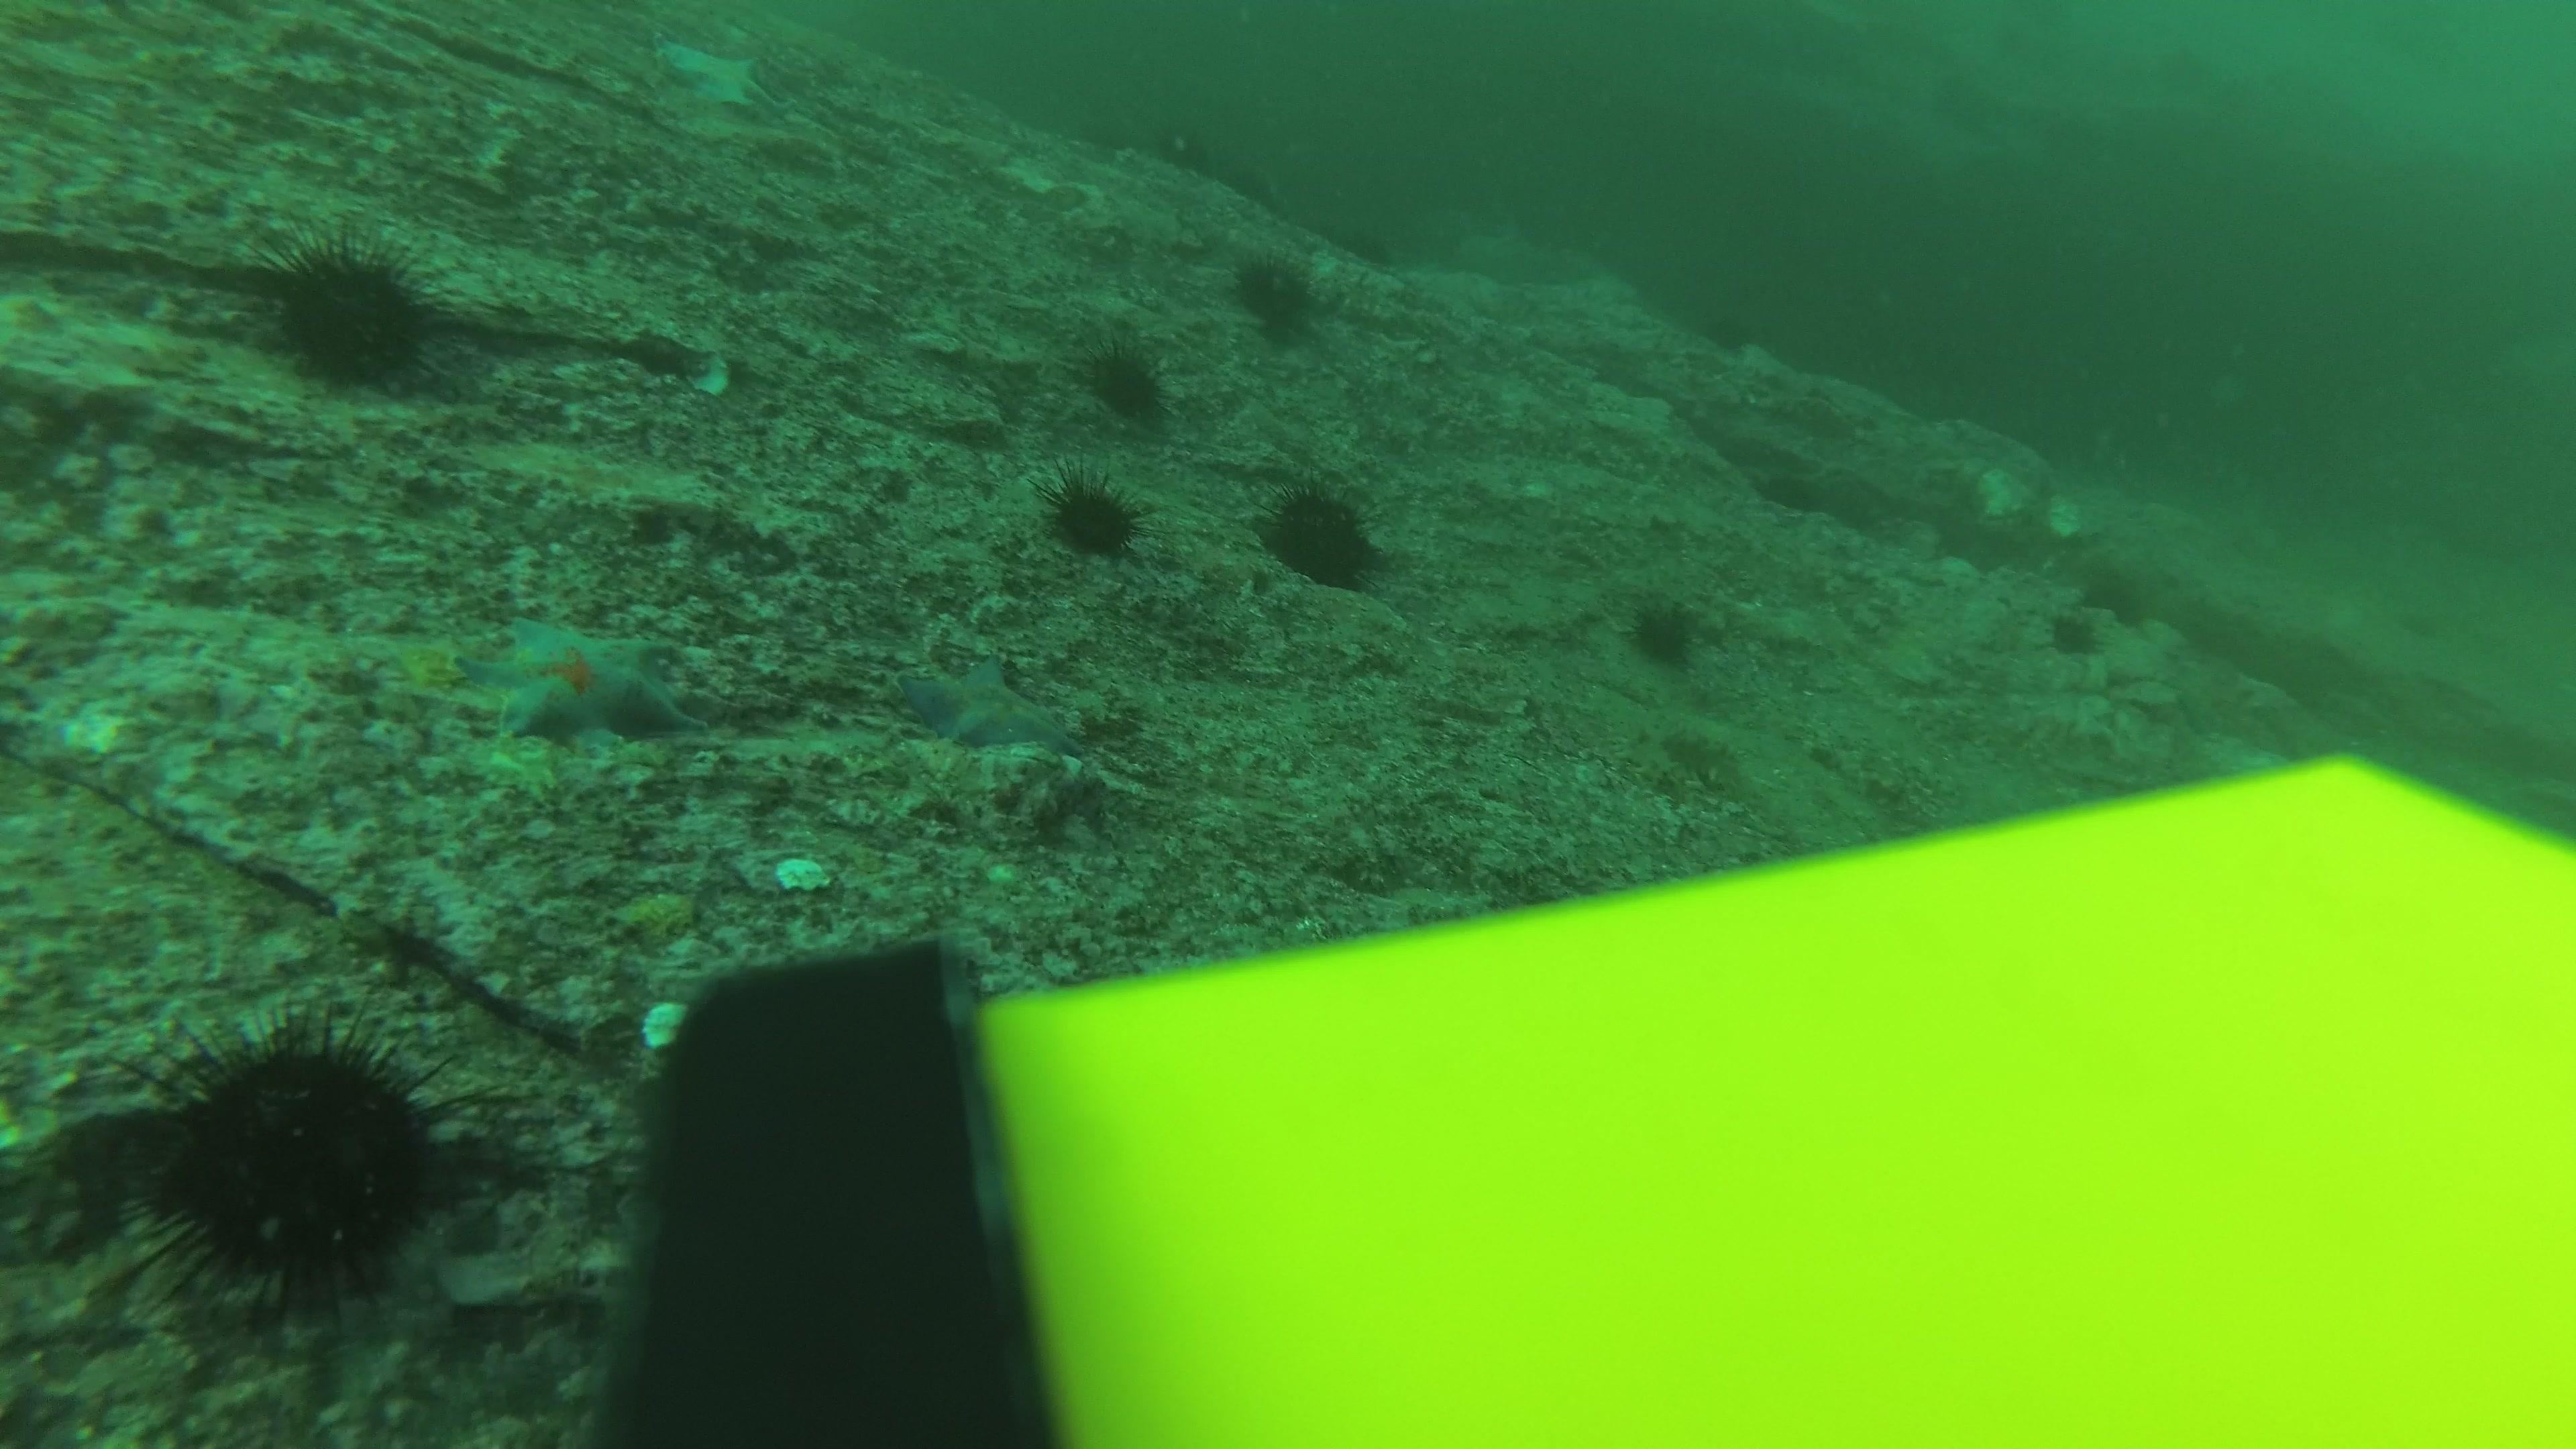echinus: (120, 1008, 469, 1322), (258, 232, 444, 395), (1256, 478, 1387, 593), (1040, 469, 1146, 563), (1228, 246, 1325, 338), (1076, 334, 1171, 425), (1621, 591, 1709, 671), (2042, 598, 2114, 660), (2086, 571, 2148, 628), (1336, 223, 1396, 267), (1164, 129, 1212, 179), (1230, 170, 1277, 214)
starfish: (455, 609, 702, 750), (885, 648, 1086, 764), (648, 30, 782, 119)
